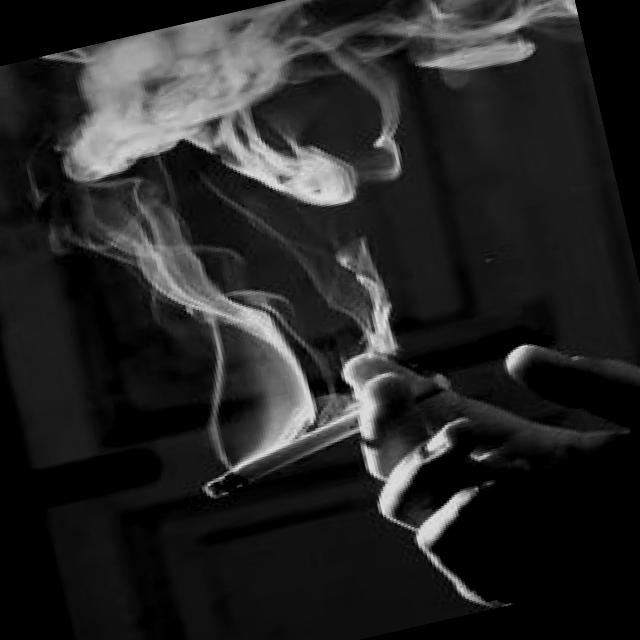smoke: (186, 359, 472, 508)
